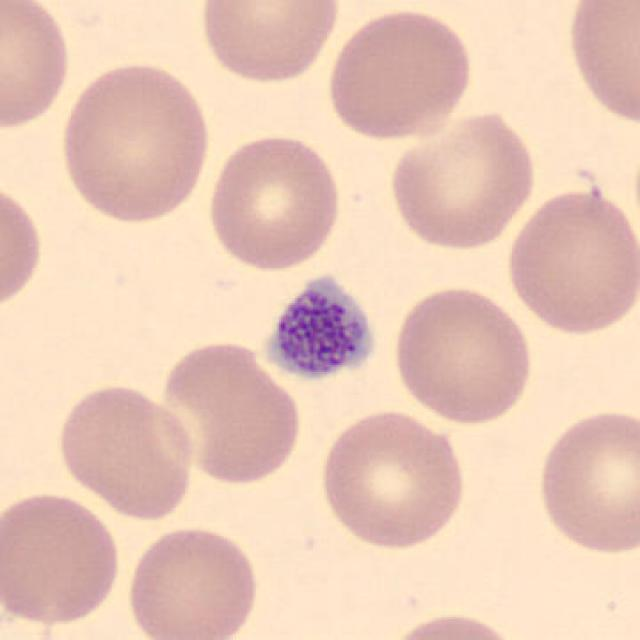Platelets: (254, 270, 379, 388)
RBC: (55, 56, 217, 226), (154, 335, 306, 488), (384, 106, 540, 254), (315, 405, 469, 552), (322, 5, 476, 145), (389, 282, 537, 427), (502, 182, 638, 338), (52, 379, 199, 522), (203, 130, 345, 274), (0, 486, 124, 629), (532, 402, 638, 559), (123, 522, 263, 640), (194, 0, 345, 86), (562, 0, 640, 129), (0, 0, 73, 134), (0, 176, 48, 318), (380, 610, 524, 640)
